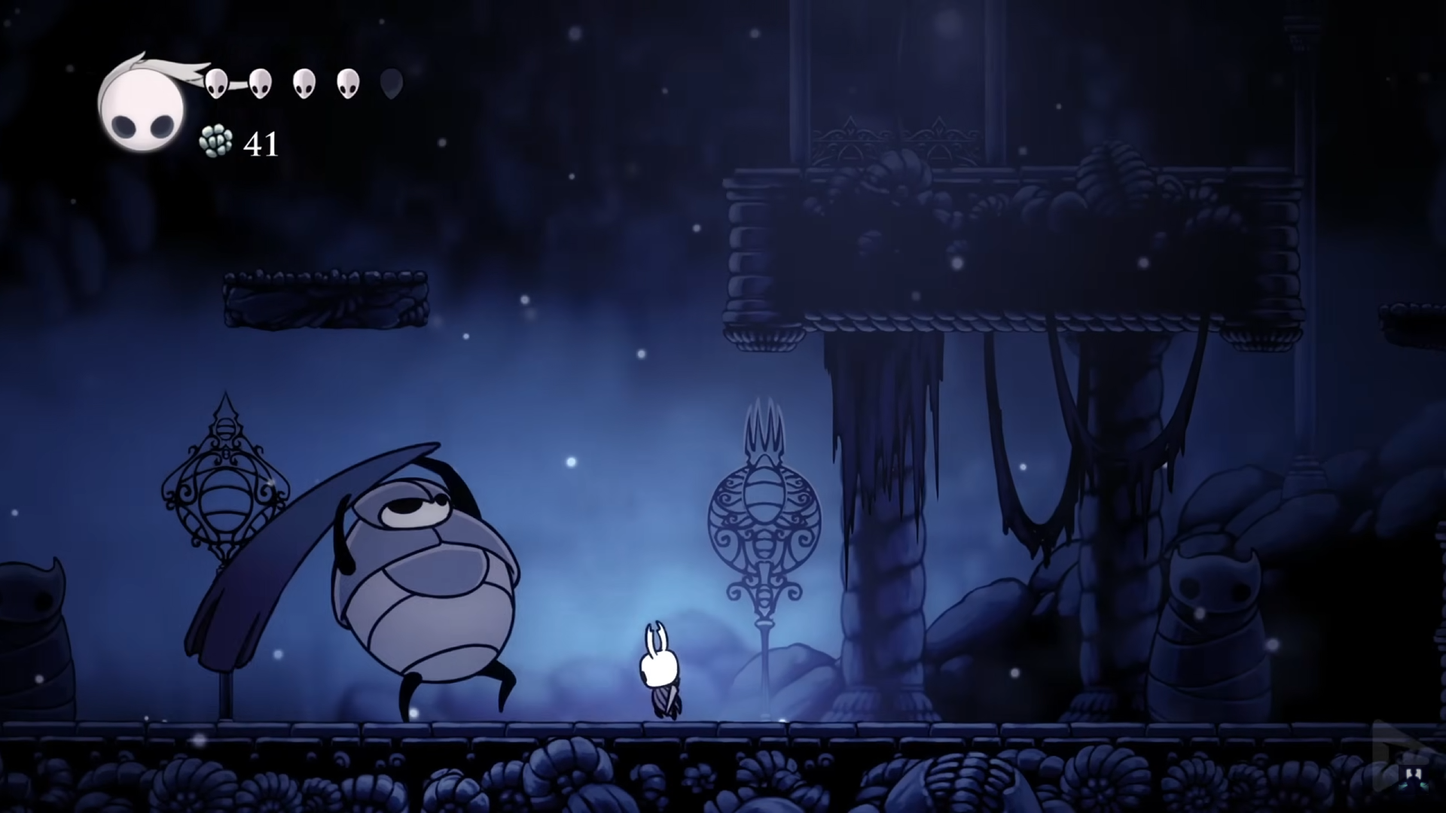HK: (633, 622, 686, 722)
